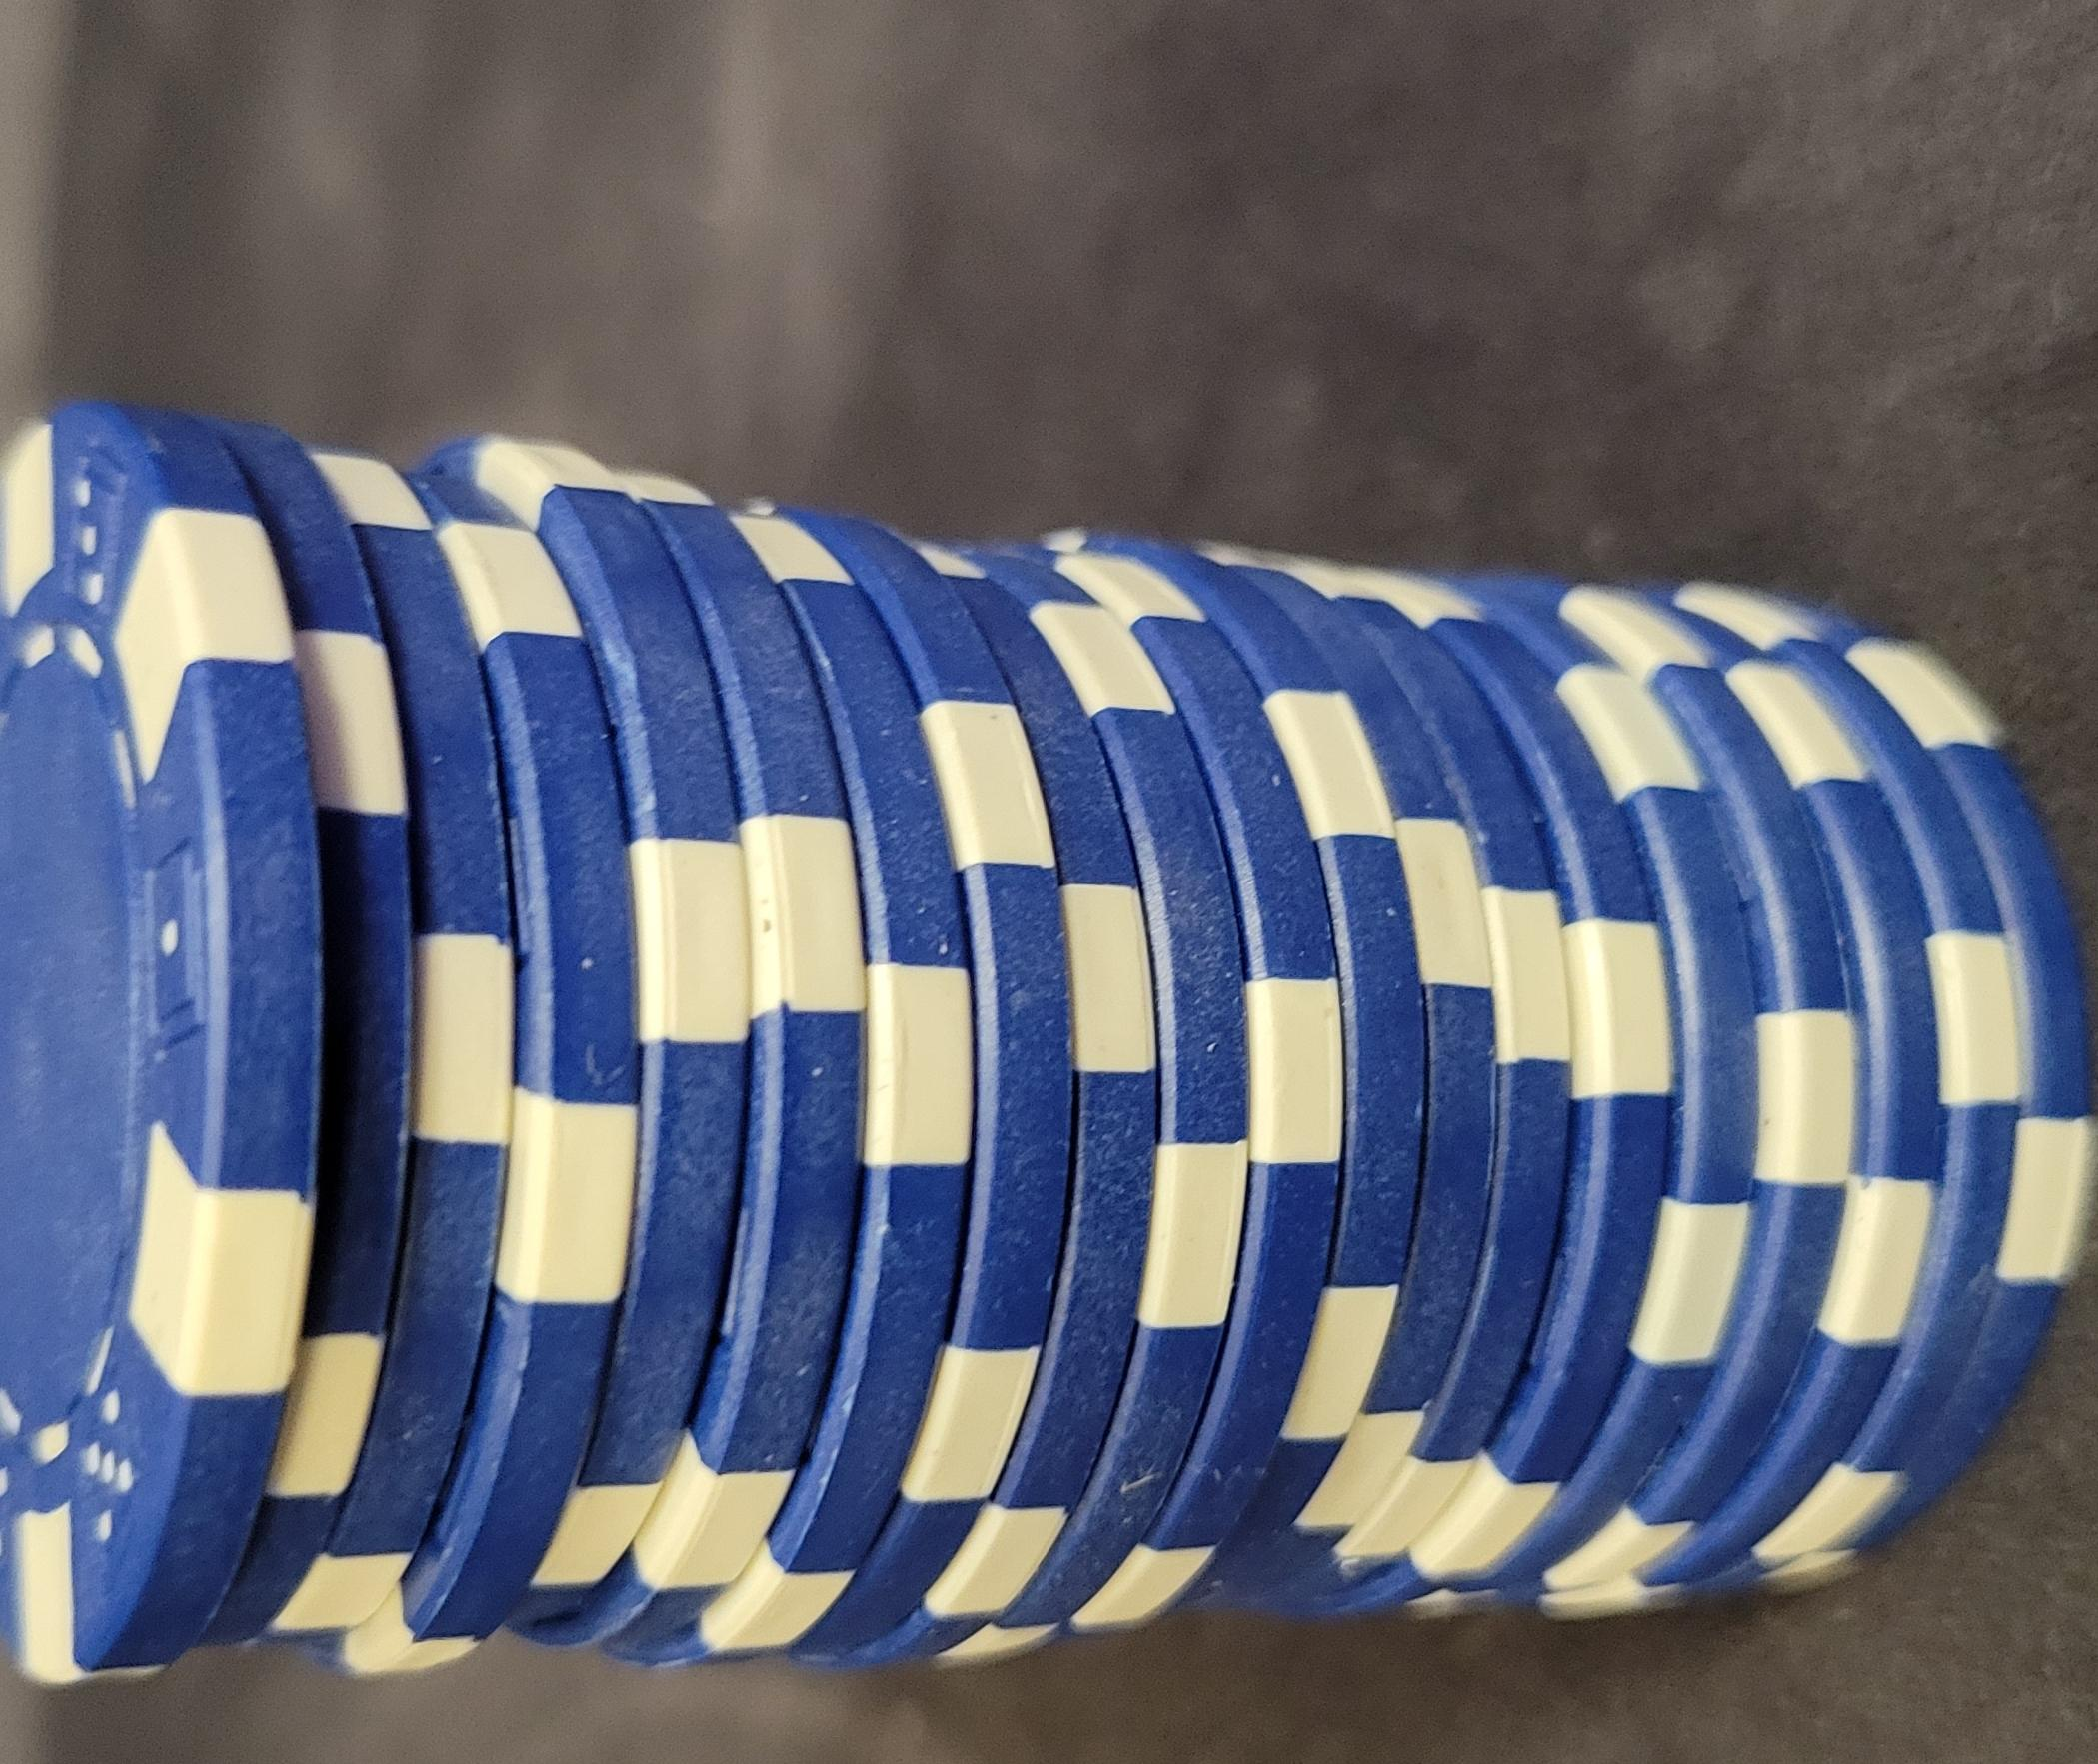Chip: (2, 168, 1356, 1764)
